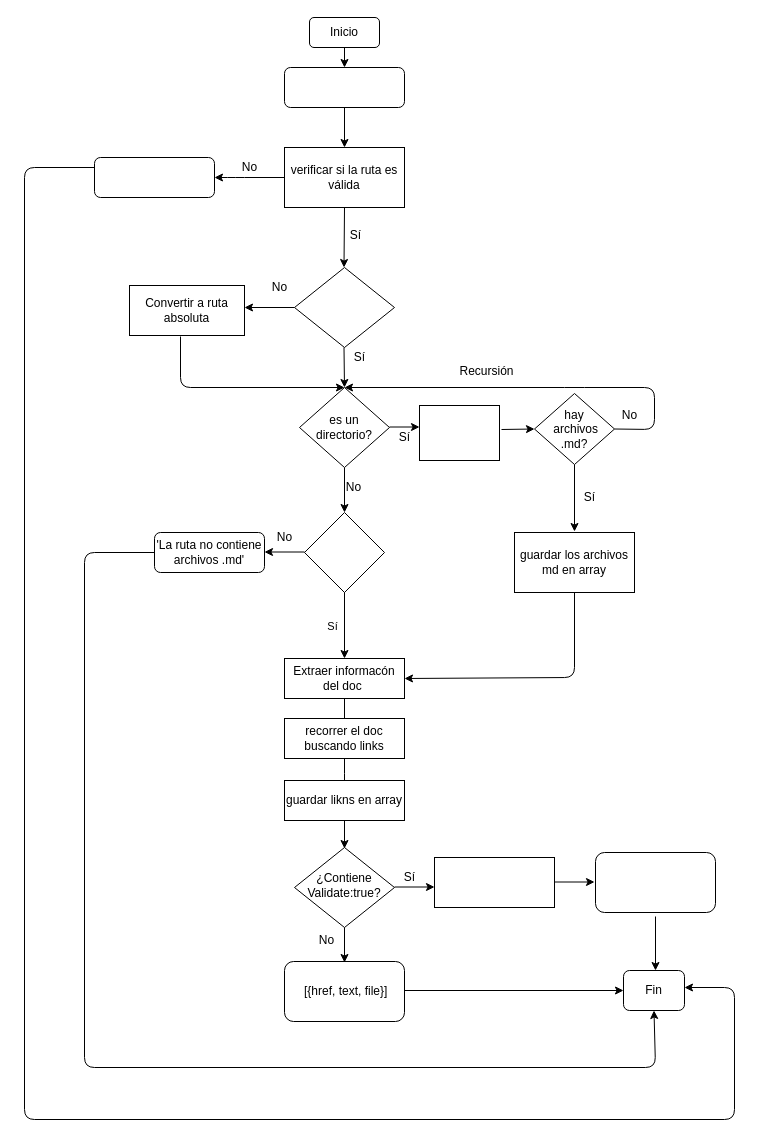
Some shapes in this 760 by 1145 pixel diagram are drawn without their labels. The centre of each missing label's shape, as x and y in pixels:
'La ruta ingresada no es válida': (154,177)
[{href, text, file, status, ok o fail}]: (655,882)
es un archivo .md?: (344,552)
Hacer petición HTTP: (494,882)
Recibo ruta: (344,87)
recorrer el directorio: (459,432)
¿La ruta es absoluta?: (344,307)
